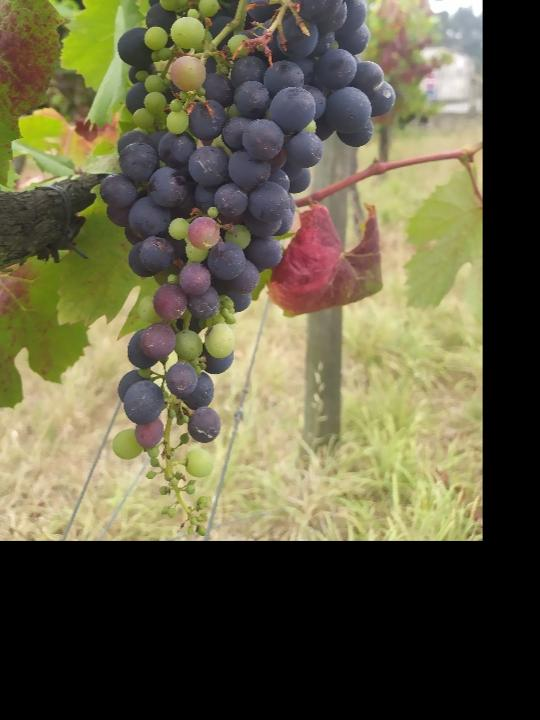grape: (101, 0, 395, 536)
